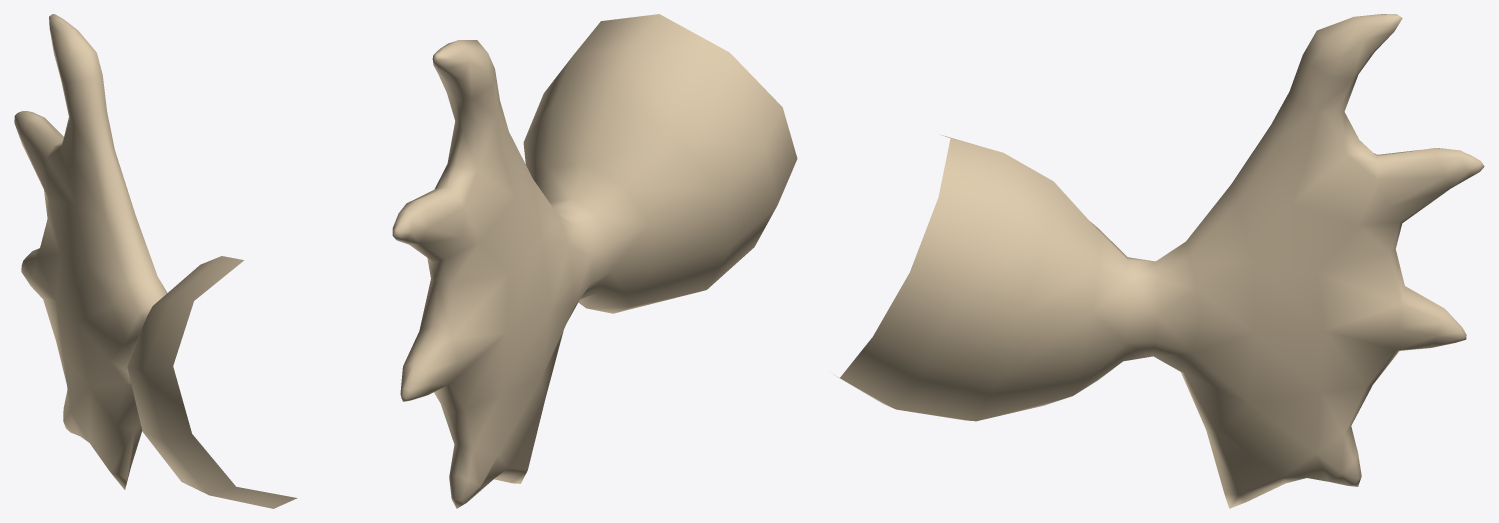
The model's file is S12_Aquatic04_L2_Tail.glb.
The picture shows the model from 3 angles, left to right: view 1: azimuth 30°, elevation 25°; view 2: azimuth 150°, elevation 25°; view 3: azimuth 270°, elevation 25°; orthographic projection. The views are drawn at different scales.
Parts seen in each view (by area): view 1: S12_Aquatic04_L2_Tail__Tail_M__surface0__lod0; view 2: S12_Aquatic04_L2_Tail__Tail_M__surface0__lod0; view 3: S12_Aquatic04_L2_Tail__Tail_M__surface0__lod0.
Part boxes in pixels (<box>): S12_Aquatic04_L2_Tail__Tail_M__surface0__lod0: <box>14,14,297,508</box>; S12_Aquatic04_L2_Tail__Tail_M__surface0__lod0: <box>392,14,797,508</box>; S12_Aquatic04_L2_Tail__Tail_M__surface0__lod0: <box>833,14,1484,508</box>.
Size of the model in its own units: 0.2571 by 0.5463 by 0.6595.
